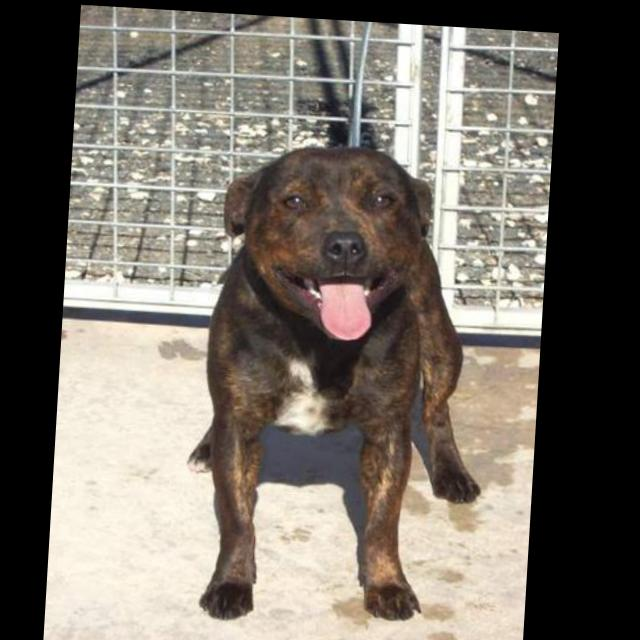staffford: (186, 132, 504, 628)
